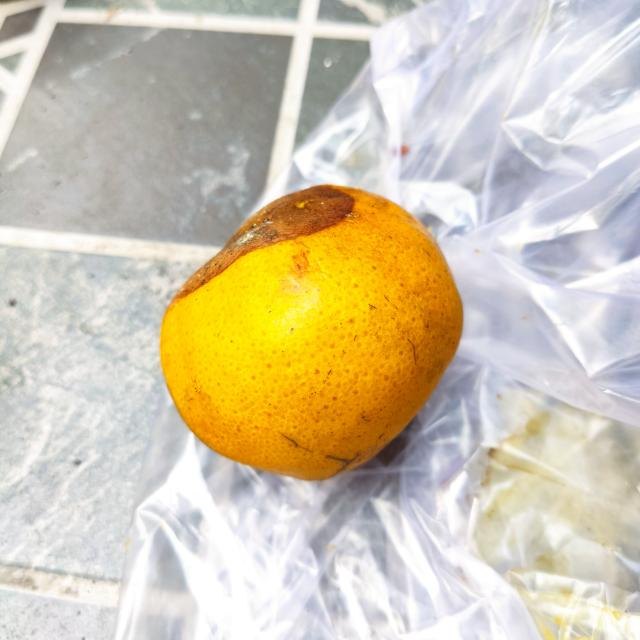orange: (155, 182, 471, 488)
